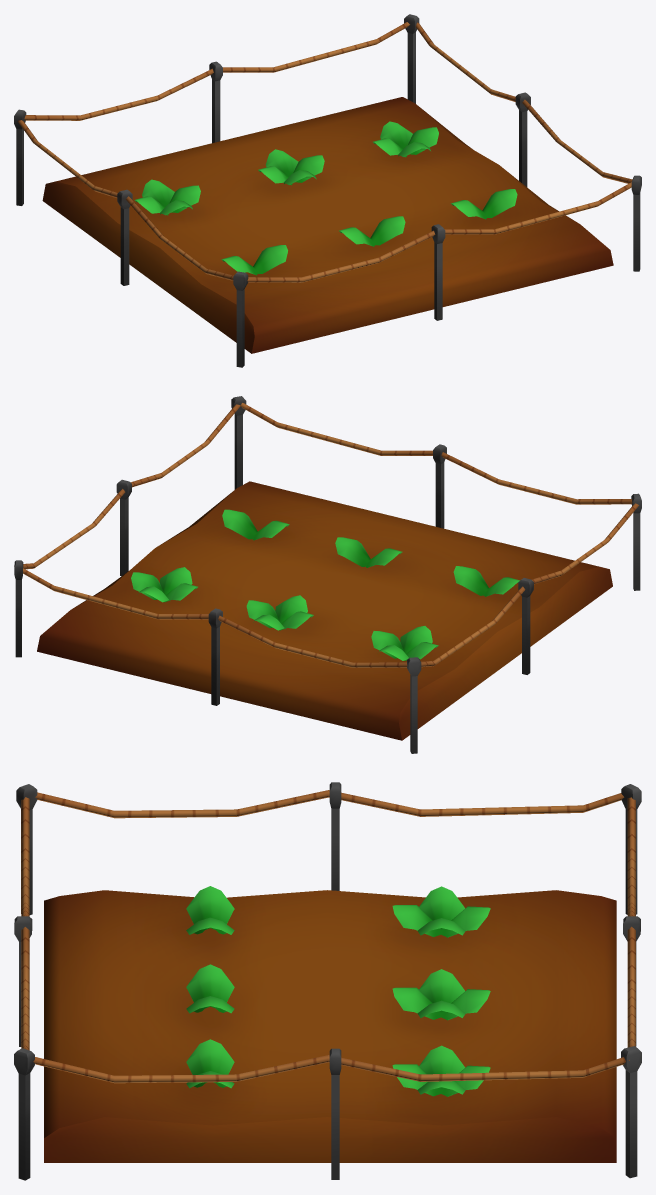
File: moestuin.fbx
3 renders of one model, top to bottom at view 1: azimuth 30°, elevation 25°; view 2: azimuth 150°, elevation 25°; view 3: azimuth 270°, elevation 25°, orthographic. The views are drawn at different scales.
Parts seen in each view (by area): view 1: moestuin; view 2: moestuin; view 3: moestuin.
Boxes of the visible parts, left/top/right/bottom form: moestuin: left=14, top=14, right=641, bottom=367; moestuin: left=14, top=396, right=641, bottom=753; moestuin: left=14, top=782, right=641, bottom=1180.
Bounding box in the file's own units: 3.96 × 0.8577 × 3.84.
